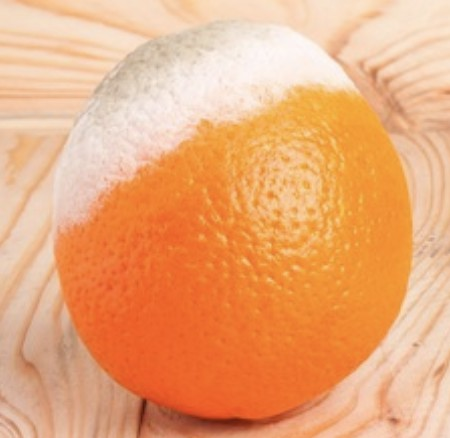rotten_orange: (54, 23, 413, 420)
